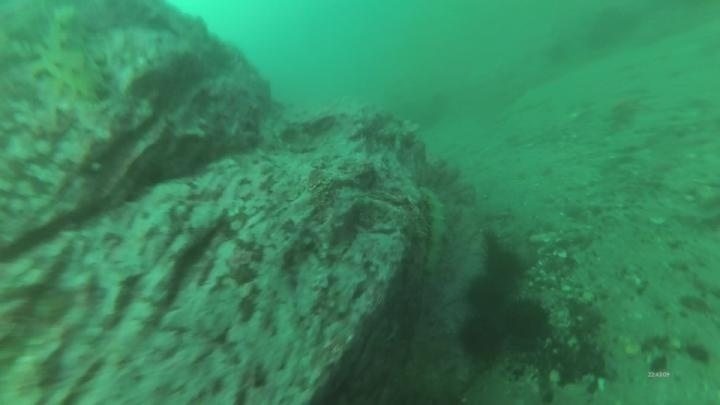echinus: (501, 296, 552, 346), (457, 314, 504, 362), (464, 275, 508, 315), (483, 247, 526, 286)
holothurian: (38, 6, 109, 106), (415, 186, 453, 278)
